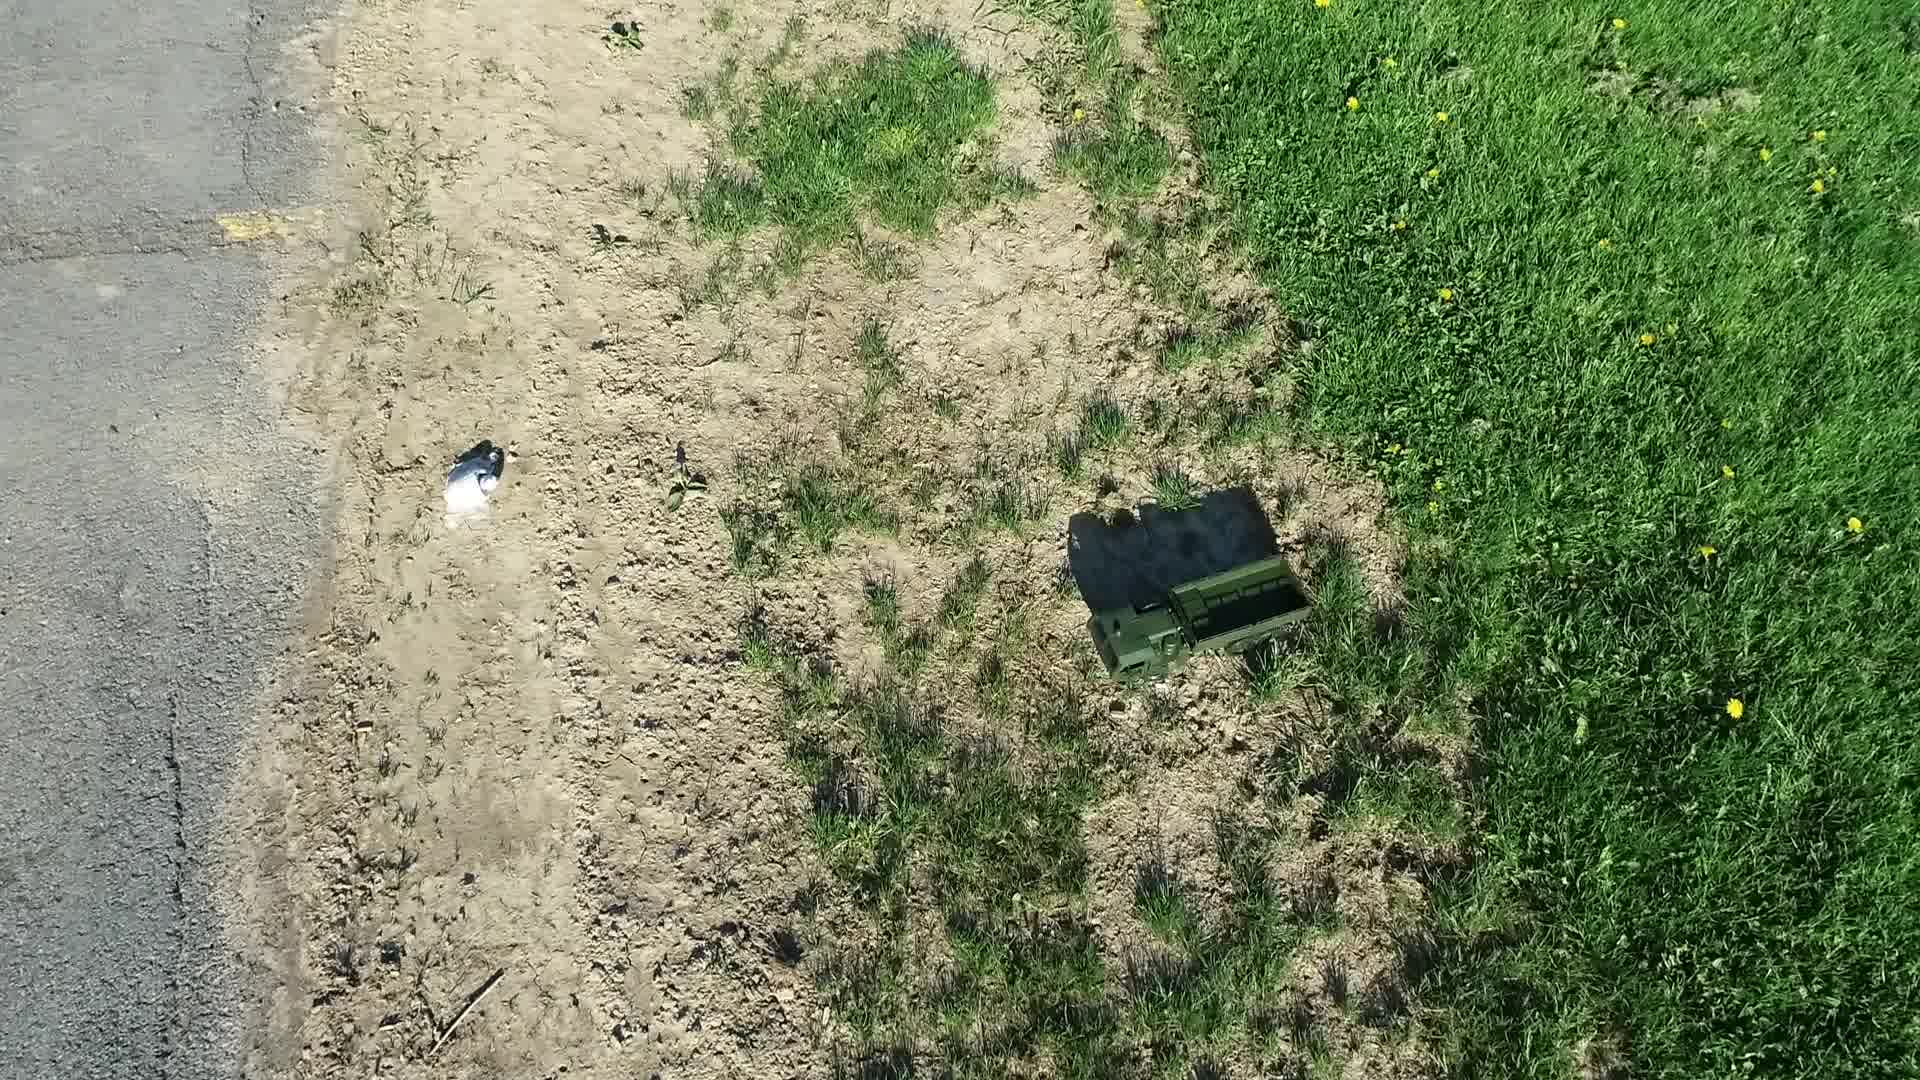transporter9: (1088, 541, 1324, 683)
